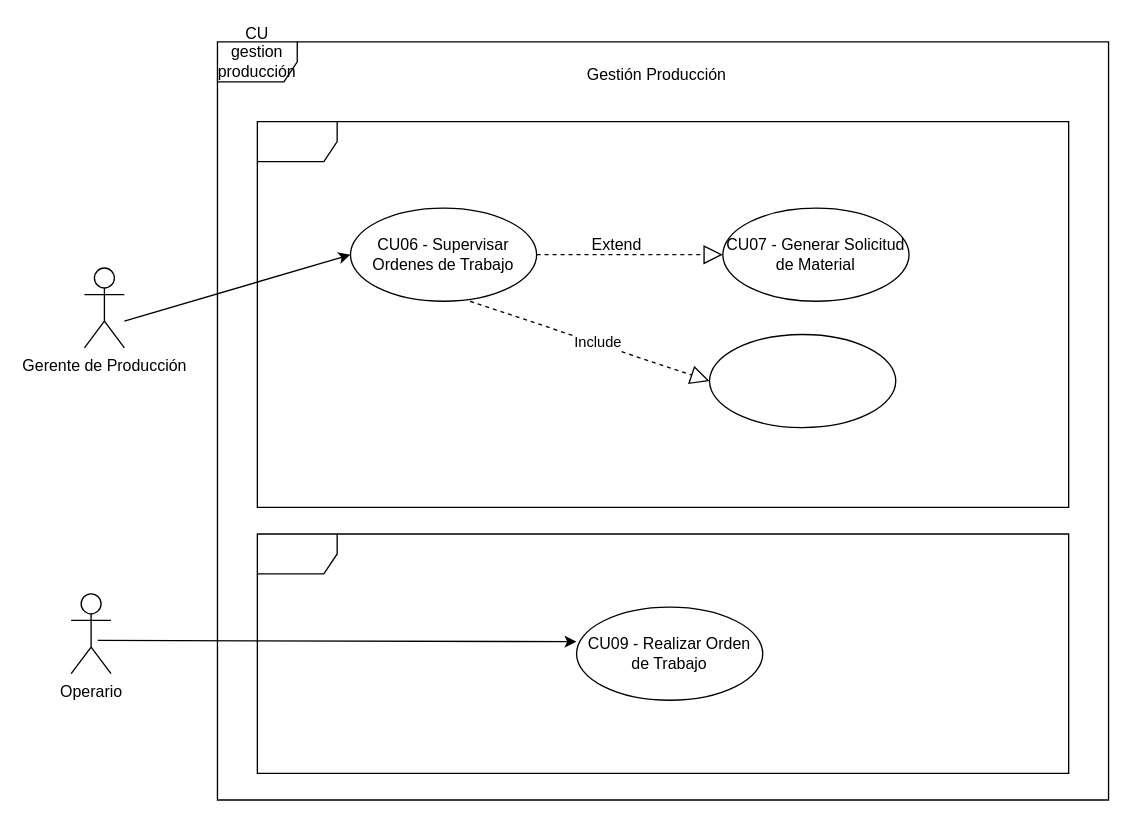
Image size: 1132x823. Some labels were removed from this diagram. Here are the shapes that lost their labels. From the top down, the box of each, then its label:
(256, 120, 1069, 507): Módulo de control de producción
(708, 333, 896, 428): CU08 - Asignar Orden de Trabajo
(256, 533, 1069, 773): Módulo de producción
